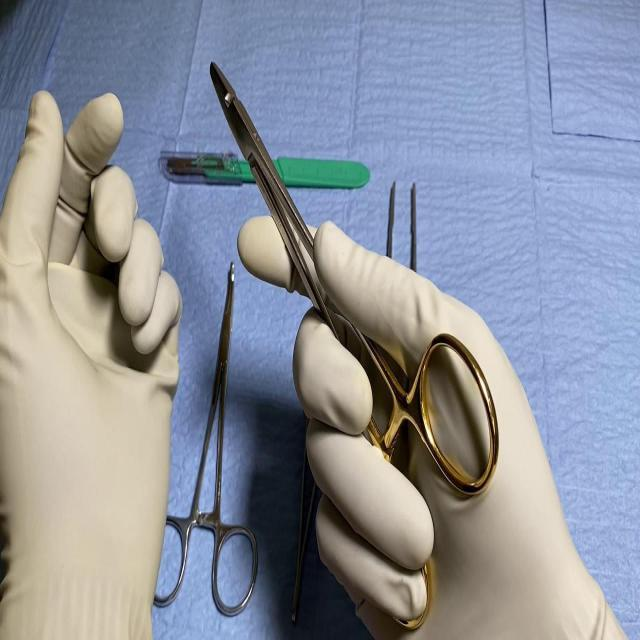Mayo_metz: (156, 146, 372, 194)
